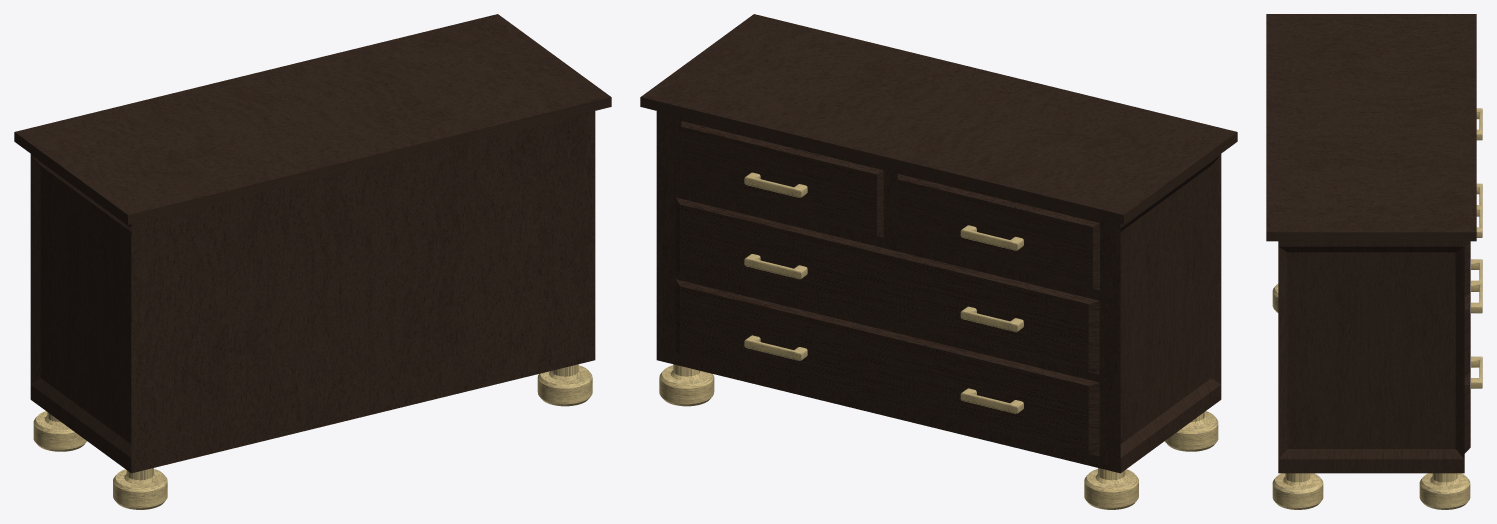
Rendered from comoda.fbx.
The picture shows the model from 3 angles, left to right: view 1: azimuth 30°, elevation 25°; view 2: azimuth 150°, elevation 25°; view 3: azimuth 270°, elevation 25°; orthographic projection. The views are drawn at different scales.
Parts seen in each view (by area): view 1: comoda3:pasted__pCube1, comoda3:pasted__pCylinder3, comoda3:pasted__pCylinder2, comoda3:pasted__pCylinder4; view 2: comoda3:pasted__pCube1, comoda3:pasted__pCube4, comoda3:pasted__pCube5, comoda3:pasted__pCube2, comoda3:pasted__pCube3, comoda3:pasted__pCylinder4, comoda3:pasted__pCylinder1, comoda3:pasted__pCylinder3, comoda3:pasted__sweep5, comoda3:pasted__sweep7, comoda3:pasted__sweep8, comoda3:pasted__sweep6 (+2 smaller); view 3: comoda3:pasted__pCube1, comoda3:pasted__pCylinder1, comoda3:pasted__pCylinder2, comoda3:pasted__pCube4, comoda3:pasted__pCube5, comoda3:pasted__pCube2, comoda3:pasted__sweep6, comoda3:pasted__sweep7.
Part boxes in pixels (bbox=[...]): comoda3:pasted__pCube1: bbox=[14, 14, 611, 473]; comoda3:pasted__pCylinder3: bbox=[113, 468, 167, 509]; comoda3:pasted__pCylinder2: bbox=[537, 364, 592, 406]; comoda3:pasted__pCylinder4: bbox=[33, 411, 86, 451]; comoda3:pasted__pCube1: bbox=[640, 14, 1237, 473]; comoda3:pasted__pCube4: bbox=[675, 197, 1099, 374]; comoda3:pasted__pCube5: bbox=[675, 279, 1099, 456]; comoda3:pasted__pCube2: bbox=[681, 121, 883, 237]; comoda3:pasted__pCube3: bbox=[897, 174, 1099, 290]; comoda3:pasted__pCylinder4: bbox=[1084, 468, 1138, 509]; comoda3:pasted__pCylinder1: bbox=[659, 364, 714, 406]; comoda3:pasted__pCylinder3: bbox=[1165, 411, 1218, 451]; comoda3:pasted__sweep5: bbox=[960, 306, 1023, 332]; comoda3:pasted__sweep7: bbox=[744, 335, 807, 360]; comoda3:pasted__sweep8: bbox=[960, 388, 1023, 413]; comoda3:pasted__sweep6: bbox=[744, 254, 807, 279]; comoda3:pasted__pCube1: bbox=[1266, 14, 1476, 473]; comoda3:pasted__pCylinder1: bbox=[1419, 473, 1470, 509]; comoda3:pasted__pCylinder2: bbox=[1272, 473, 1323, 509]; comoda3:pasted__pCube4: bbox=[1464, 289, 1470, 377]; comoda3:pasted__pCube5: bbox=[1464, 372, 1470, 453]; comoda3:pasted__pCube2: bbox=[1464, 241, 1470, 296]; comoda3:pasted__sweep6: bbox=[1471, 281, 1482, 313]; comoda3:pasted__sweep7: bbox=[1471, 356, 1482, 388].
Size of the model in its own units: 2 by 1.2 by 0.8389.
